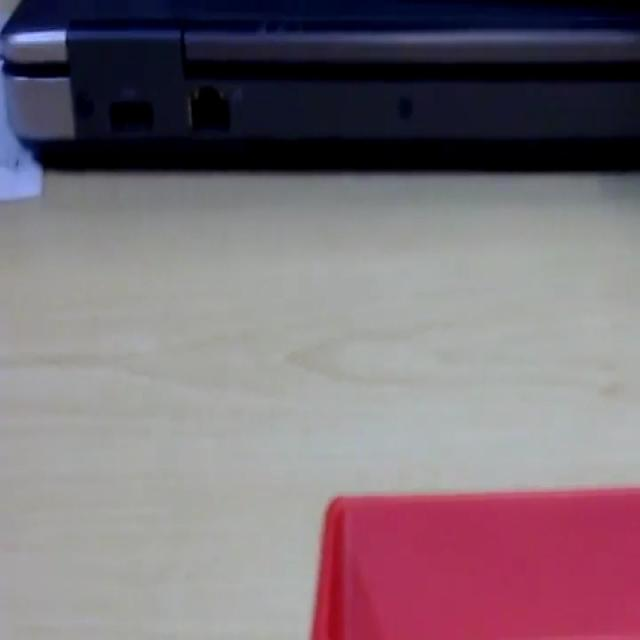red_block: (310, 484, 638, 637)
